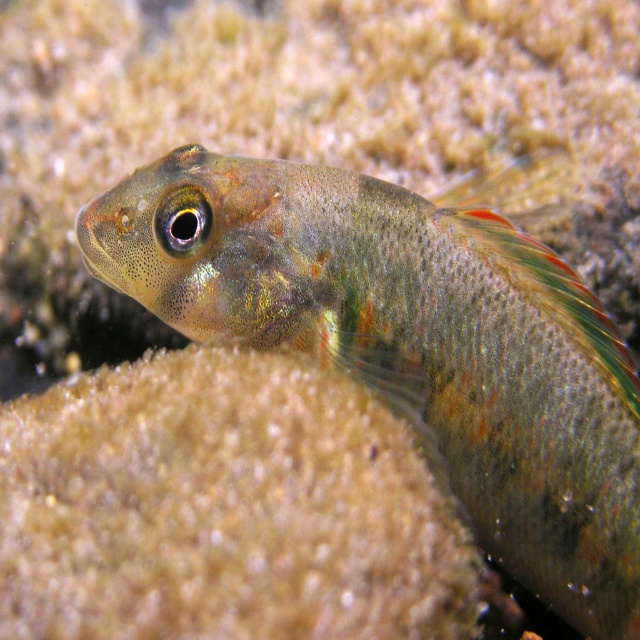Fish: (76, 143, 640, 640)
